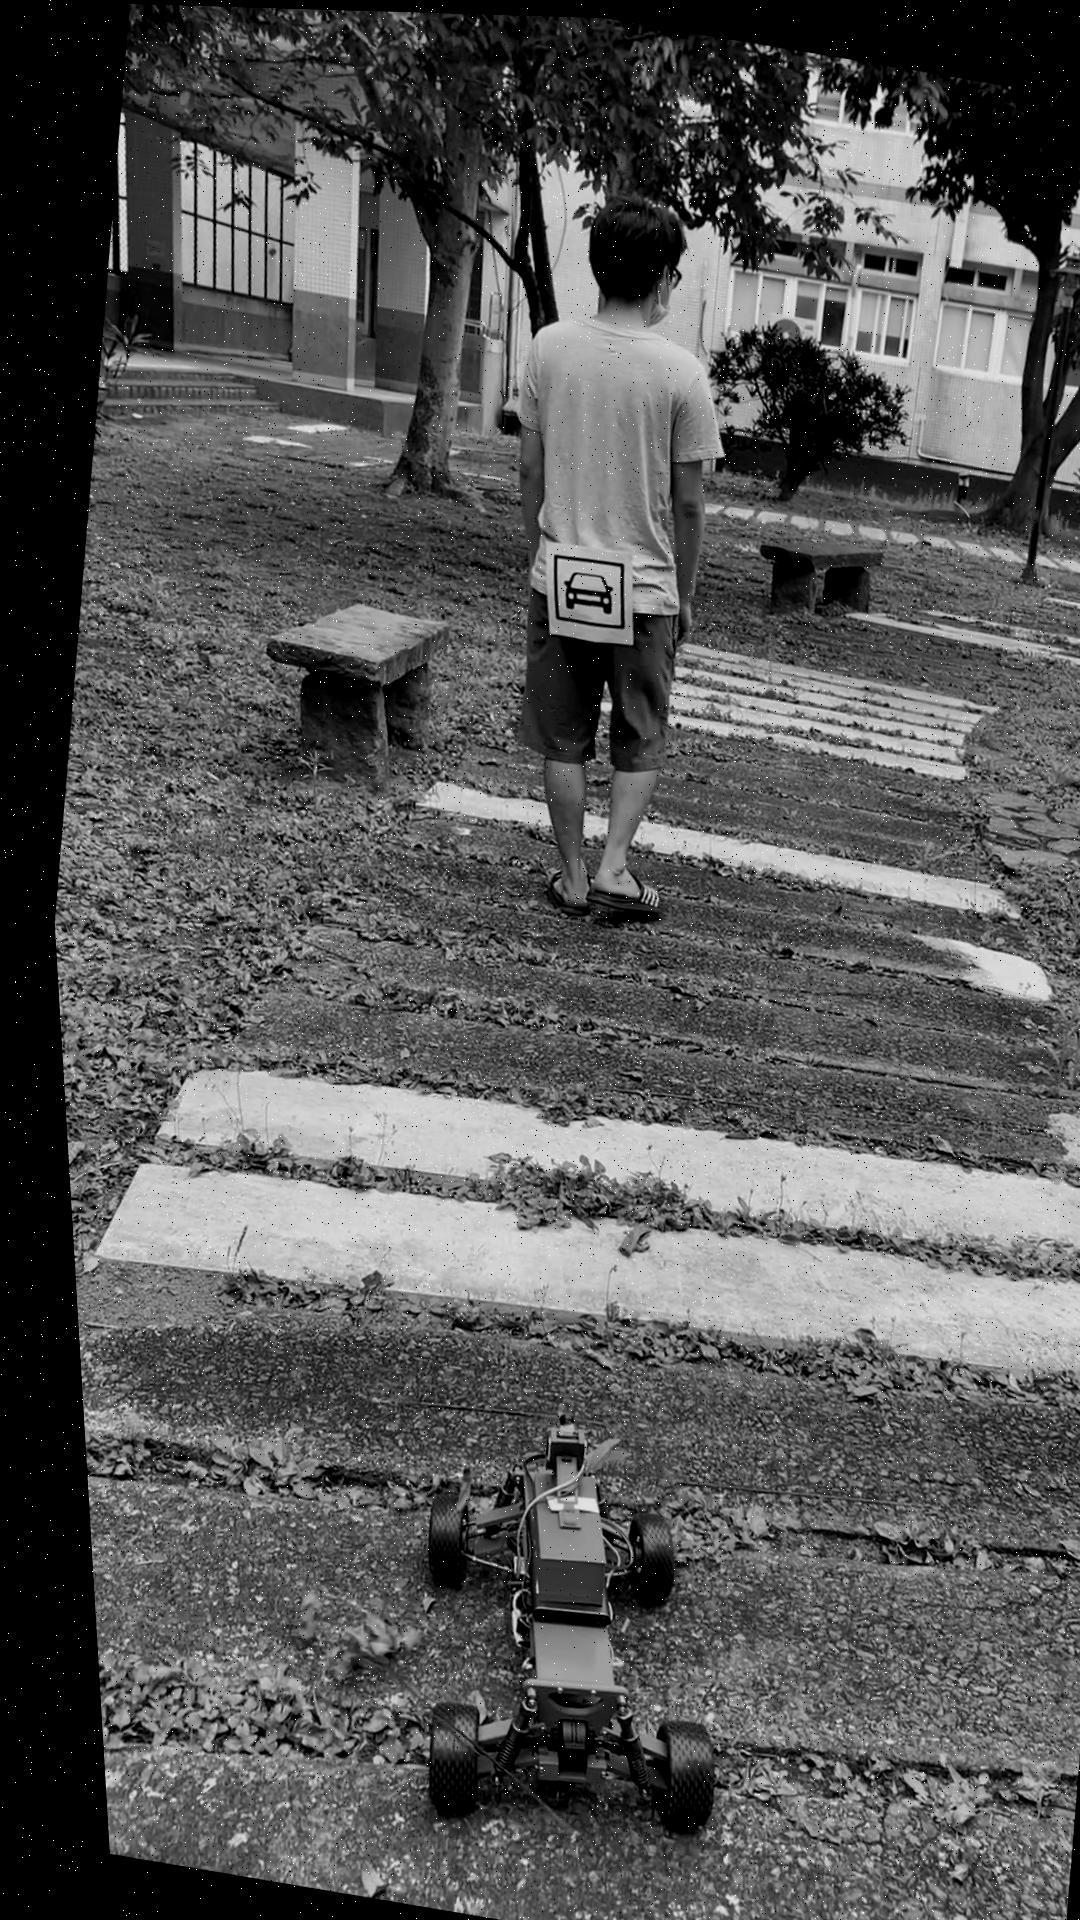car_img: (538, 546, 628, 628)
